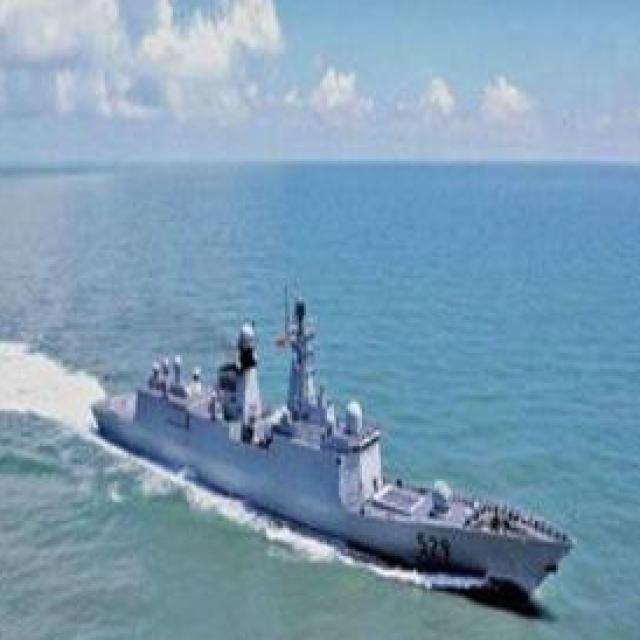navalvessels: (73, 278, 570, 601)
